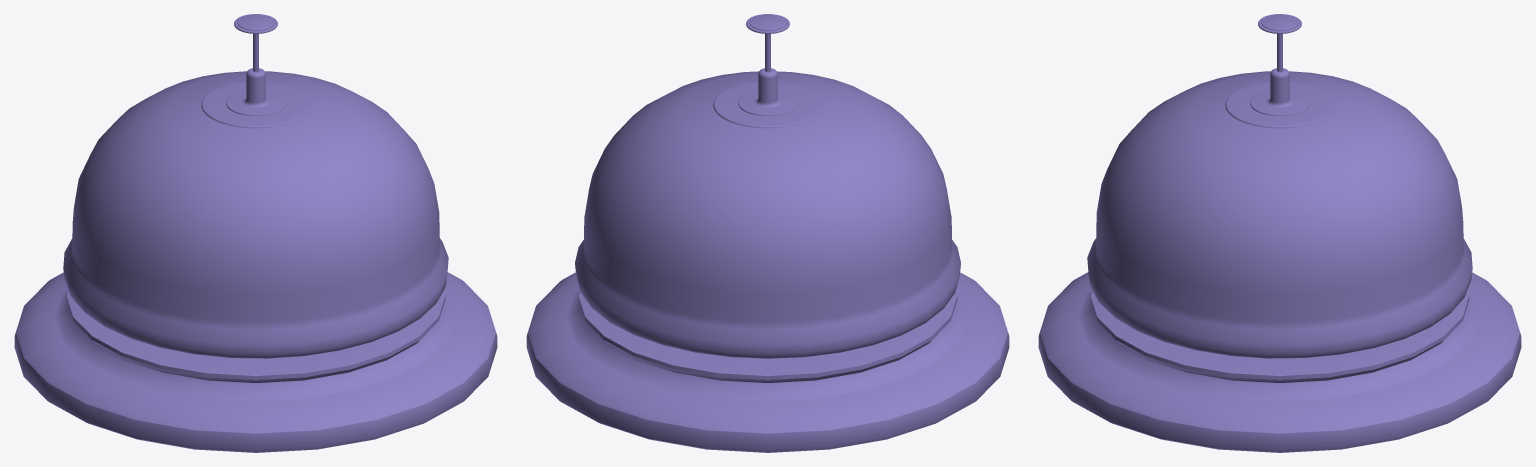
File: DingDangLow.fbx
3 views of the same model, side by side, from view 1: azimuth 30°, elevation 25°; view 2: azimuth 150°, elevation 25°; view 3: azimuth 270°, elevation 25° (orthographic).
Visible parts, largest first — view 1: DingDang_low; view 2: DingDang_low; view 3: DingDang_low.
Part boxes in pixels (<box>): DingDang_low: <box>14,14,497,452</box>; DingDang_low: <box>526,14,1009,452</box>; DingDang_low: <box>1038,14,1521,452</box>.
Size of the model in its own units: 32.83 by 25.55 by 32.83.
